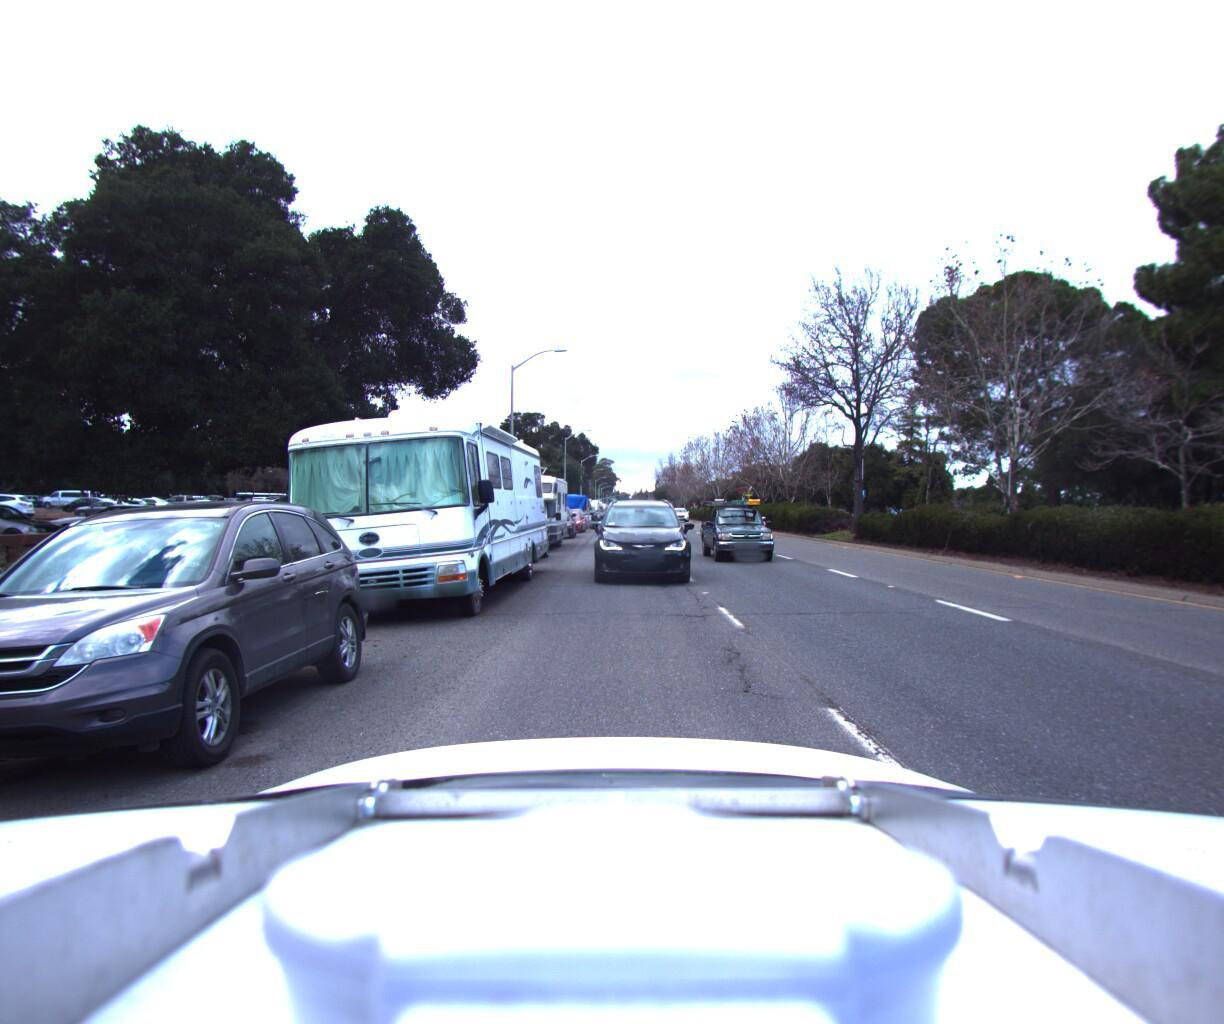car: (591, 494, 684, 588), (700, 476, 787, 566), (140, 494, 271, 540), (221, 500, 333, 535), (553, 506, 584, 532)
other_vehicle: (253, 378, 549, 638), (475, 471, 568, 554), (553, 490, 593, 524)
